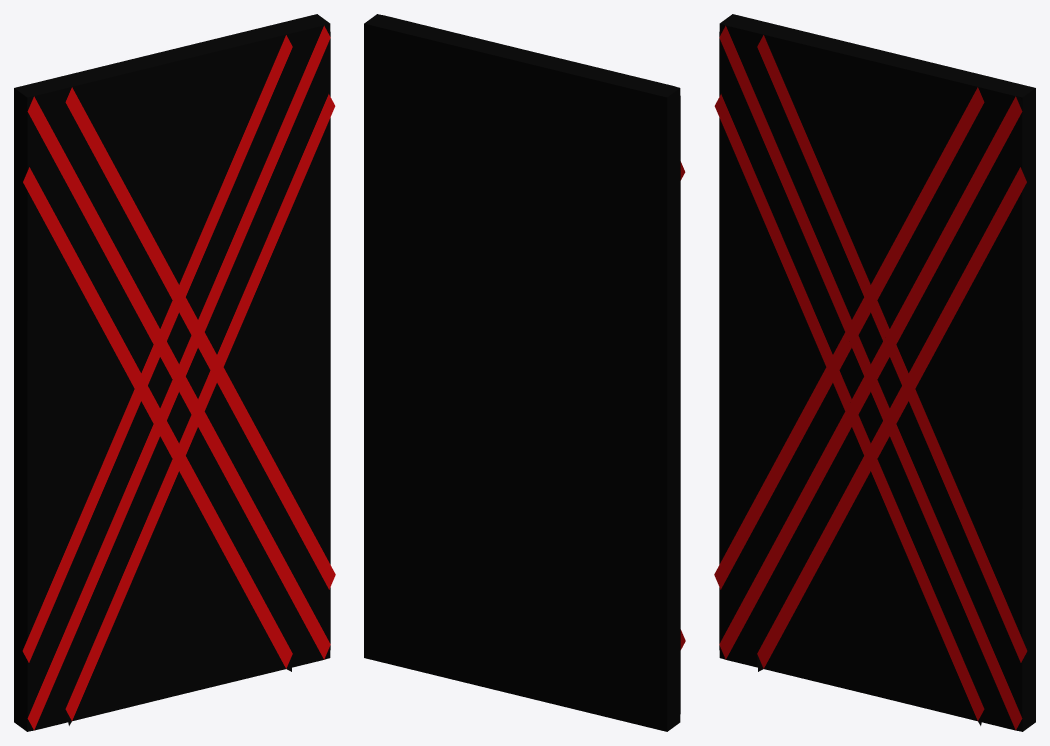
The model's file is Wall3.fbx.
The picture shows the model from 3 angles, left to right: view 1: azimuth 30°, elevation 25°; view 2: azimuth 150°, elevation 25°; view 3: azimuth 330°, elevation 25°; orthographic projection.
Visible parts, largest first — view 1: Cube; view 2: Cube; view 3: Cube.
Boxes of the visible parts, x1,y1,x2,y2 form: Cube: [14, 14, 335, 731]; Cube: [364, 14, 685, 731]; Cube: [714, 14, 1035, 731].
Bounding box in the file's own units: 207 × 402 × 16.89.
